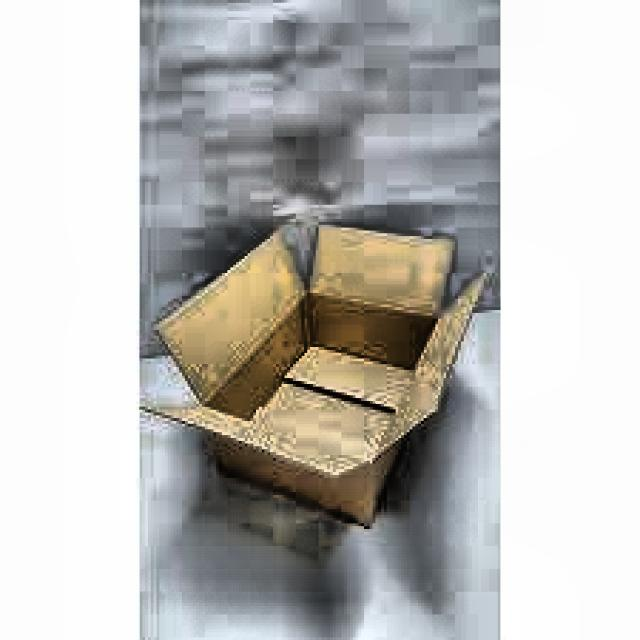Cardbox: (141, 216, 497, 540)
